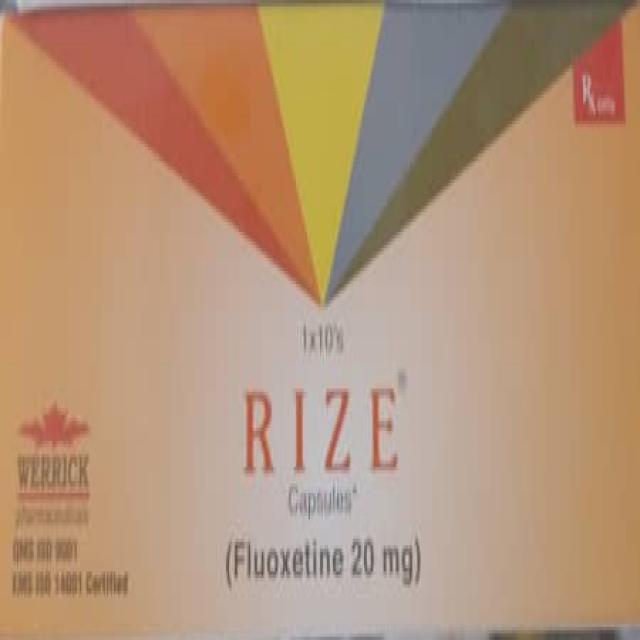drug-name: (240, 370, 416, 481)
